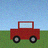vehicle: (10, 22, 39, 43)
